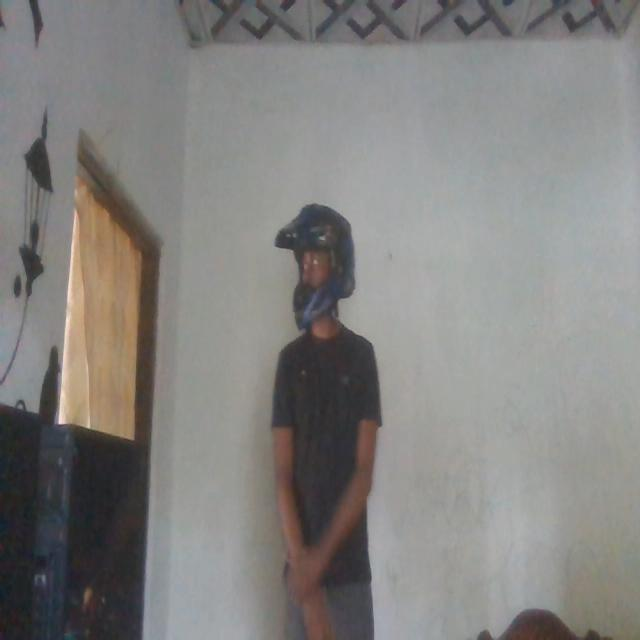Helmet_Wearer: (270, 194, 356, 338)
Person: (268, 234, 377, 640)
